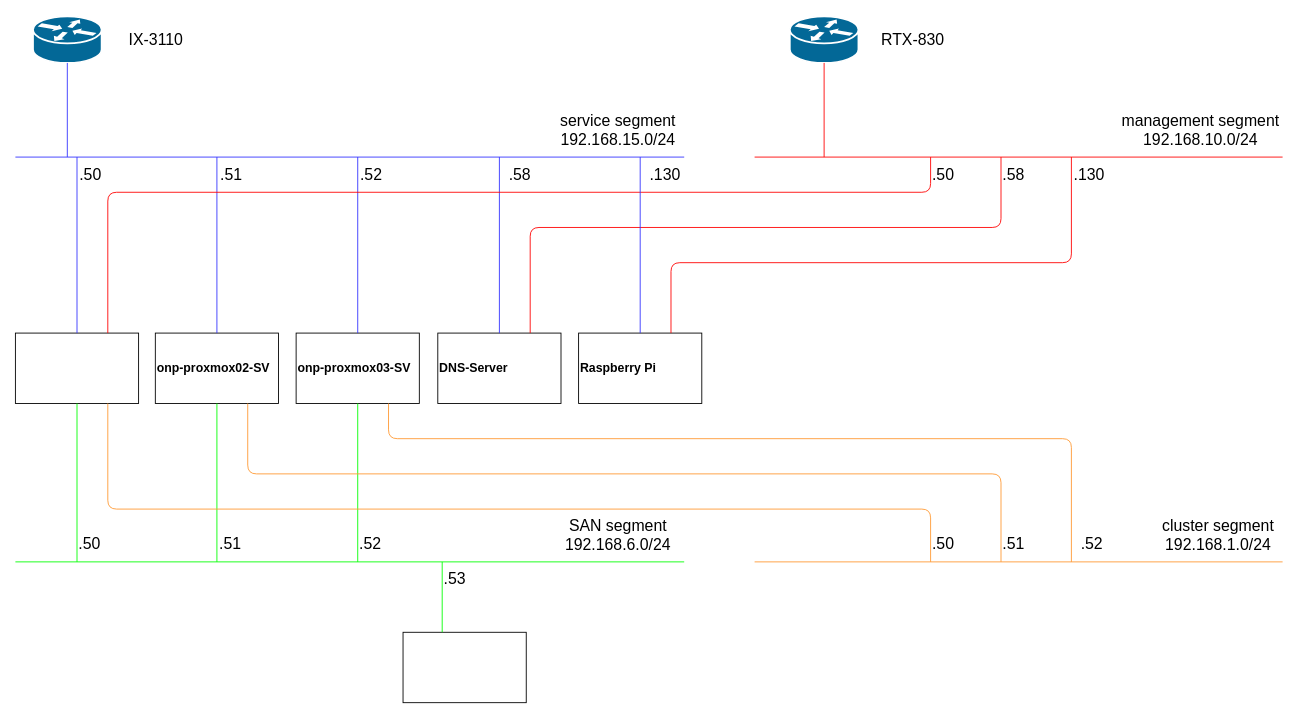
Some shapes in this 1299 by 718 pixel diagram are drawn without their labels. The box of each missing label's shape, as (x1, y1, x2, y2) in pixels:
onp-proxmox01-SV: (15, 332, 139, 403)
QNAP TS-253D: (402, 631, 526, 703)
